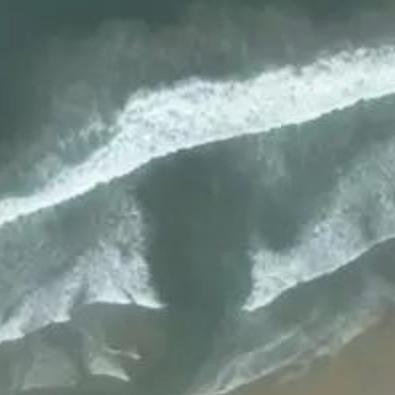rip_current: (96, 107, 307, 364)
